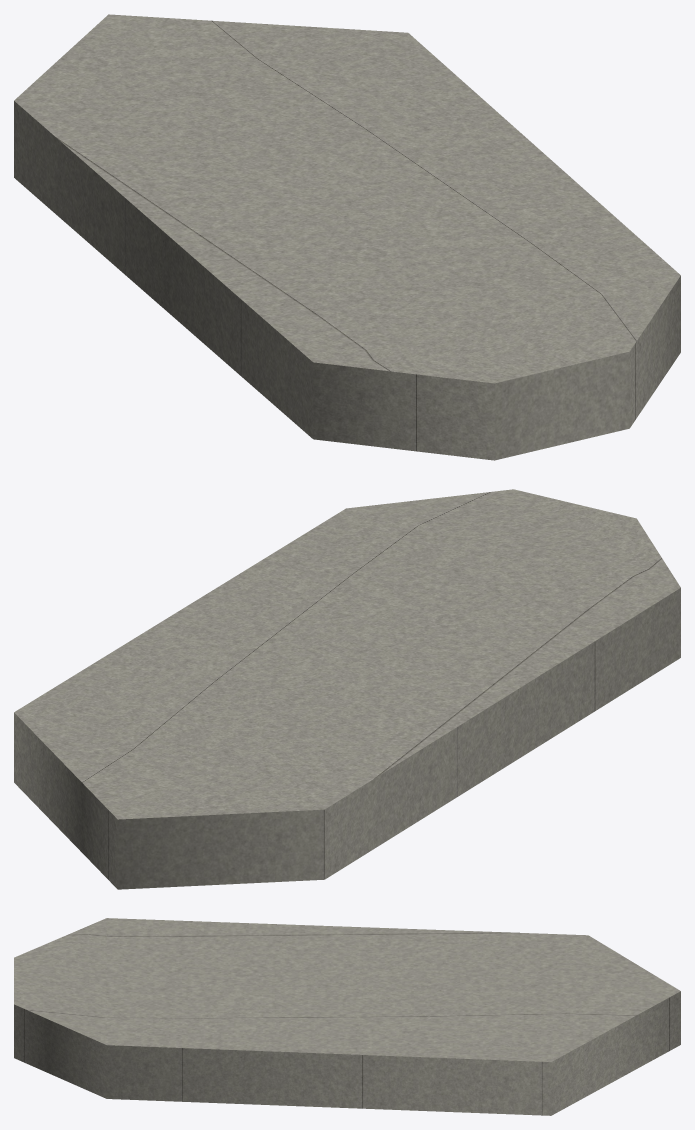
File: curb_13.glb
The picture shows the model from 3 angles, top to bottom: view 1: azimuth 30°, elevation 25°; view 2: azimuth 150°, elevation 25°; view 3: azimuth 270°, elevation 25°; orthographic projection. The views are drawn at different scales.
Visible parts, largest first — view 1: curb_13.surface, curb_13.sides; view 2: curb_13.surface, curb_13.sides; view 3: curb_13.surface, curb_13.sides.
Part boxes in pixels (bbox=[...]): curb_13.surface: bbox=[14, 14, 680, 383]; curb_13.sides: bbox=[14, 101, 680, 460]; curb_13.surface: bbox=[14, 489, 680, 819]; curb_13.sides: bbox=[14, 588, 680, 889]; curb_13.surface: bbox=[14, 918, 680, 1061]; curb_13.sides: bbox=[14, 991, 680, 1115].
Size of the model in its own units: 0.8994 by 0.1695 by 1.8.
1 material, 1 textured.
